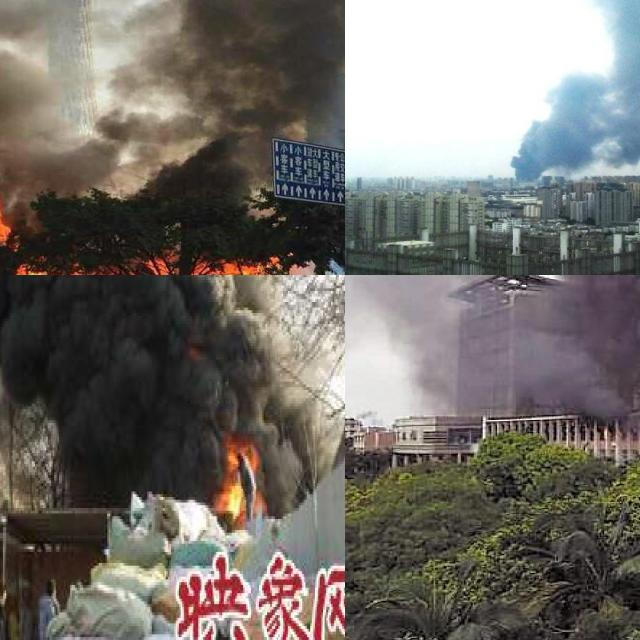fire: (0, 248, 296, 275), (216, 437, 260, 519), (0, 187, 9, 243)
smoke: (0, 275, 333, 500), (0, 0, 345, 216), (345, 275, 640, 416), (509, 0, 640, 185)
